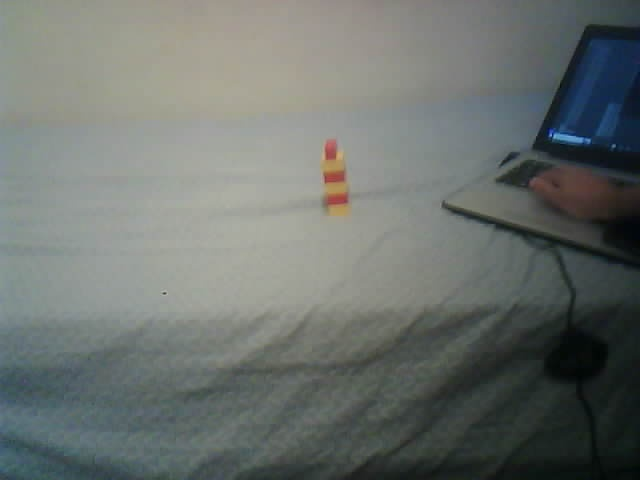lego: (319, 138, 350, 217)
